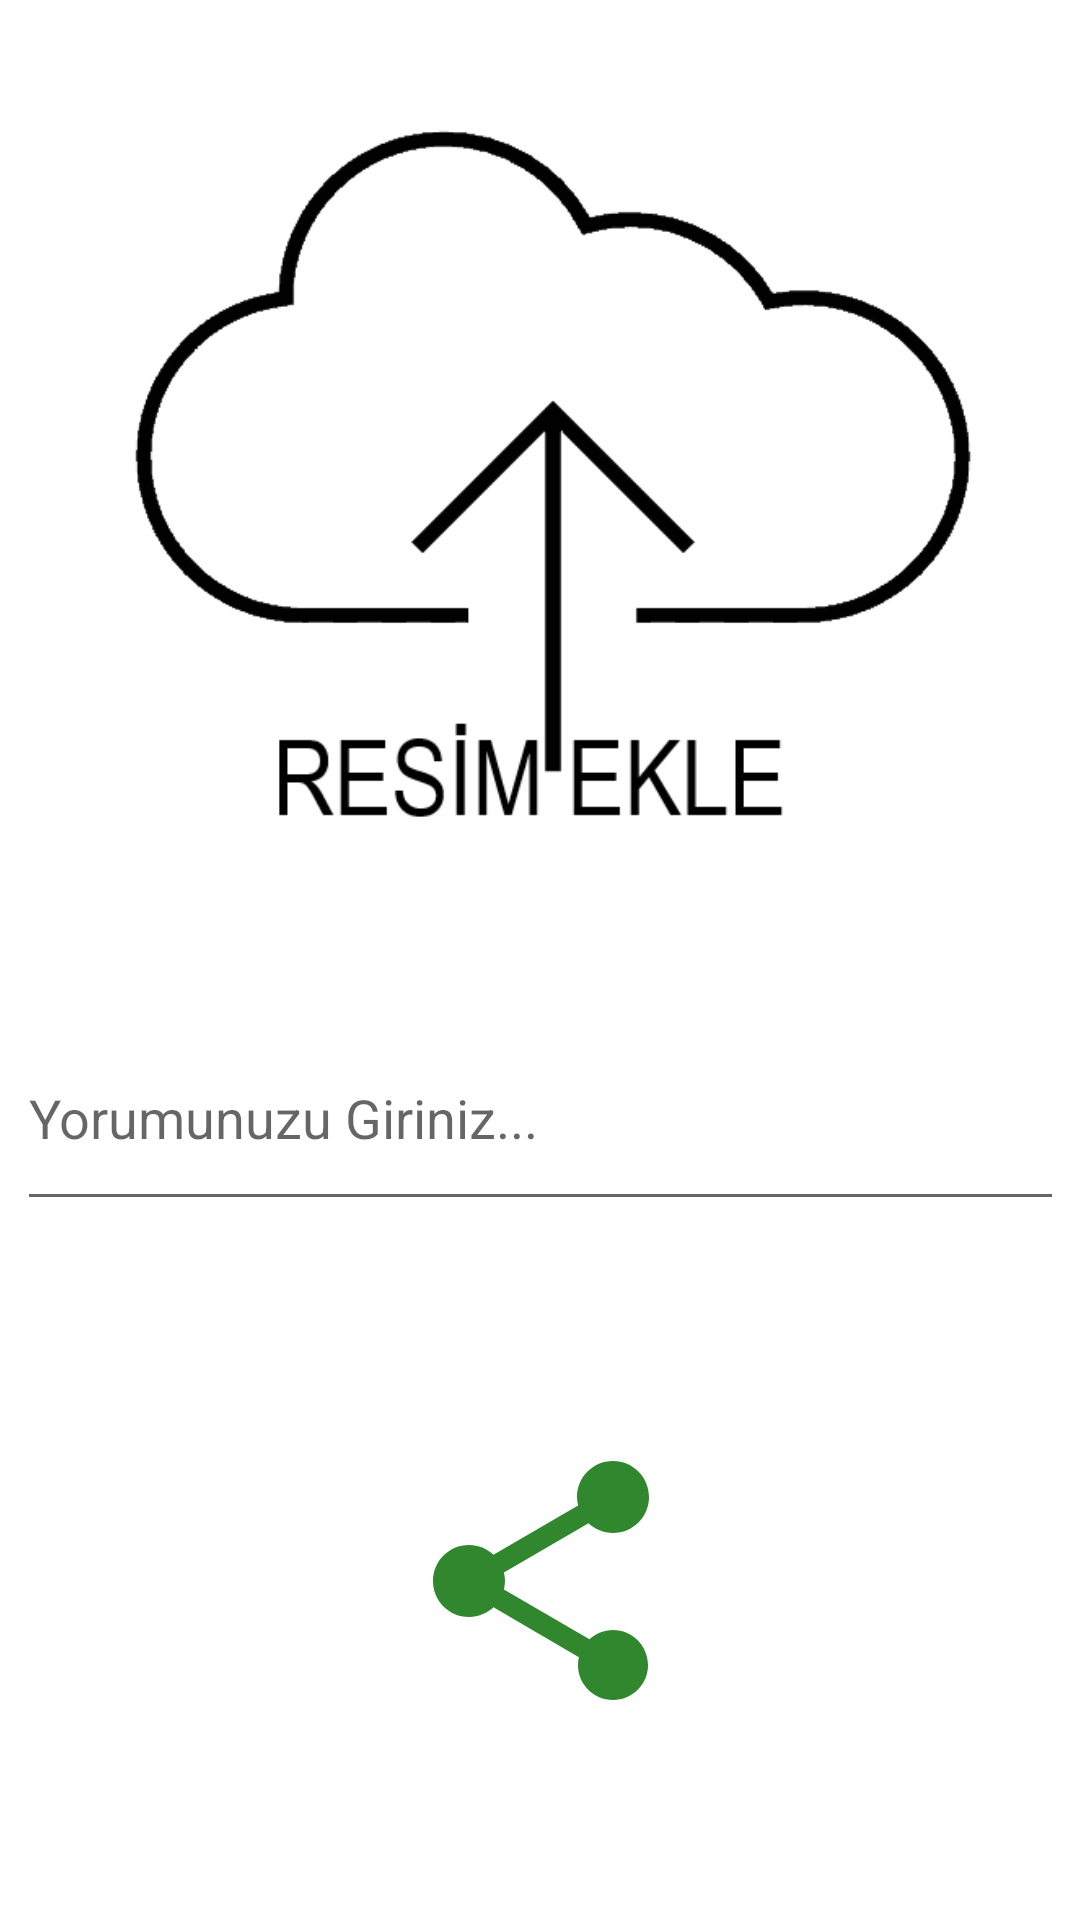

Icon bounding boxes for this 1080x1920 phone screenshot, format box=[x1, y1, x2, y2]:
share: box=[433, 1461, 649, 1700]
